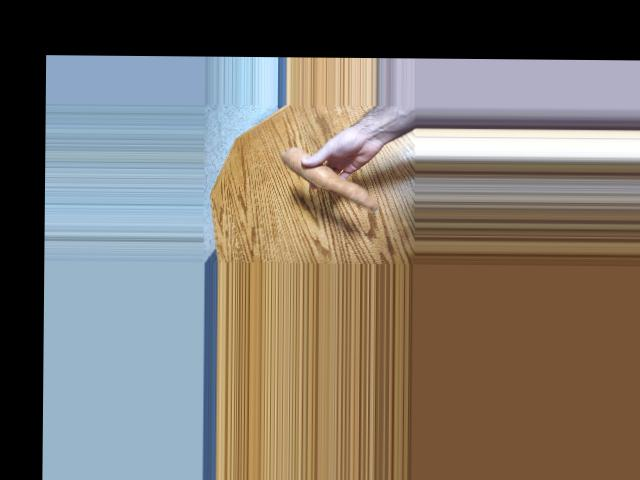sweet_potato: (270, 150, 377, 203)
